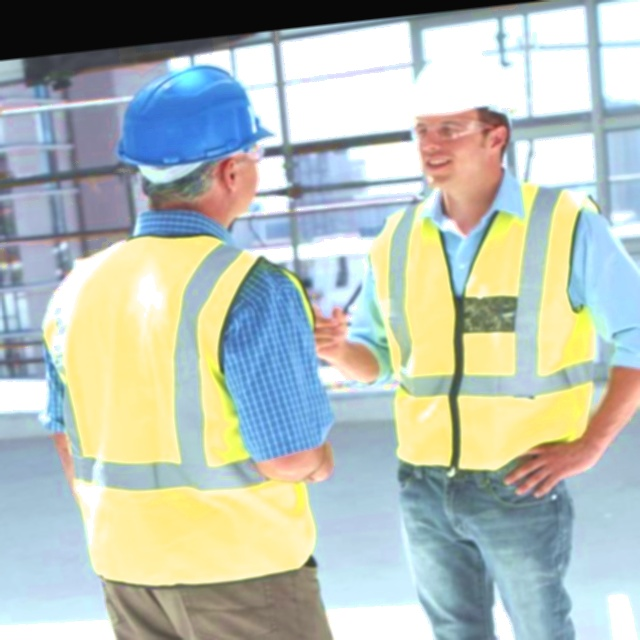Con_Casco: (111, 56, 286, 233), (392, 47, 531, 198)
Con_Chaleco: (44, 227, 332, 596), (357, 173, 620, 500)
